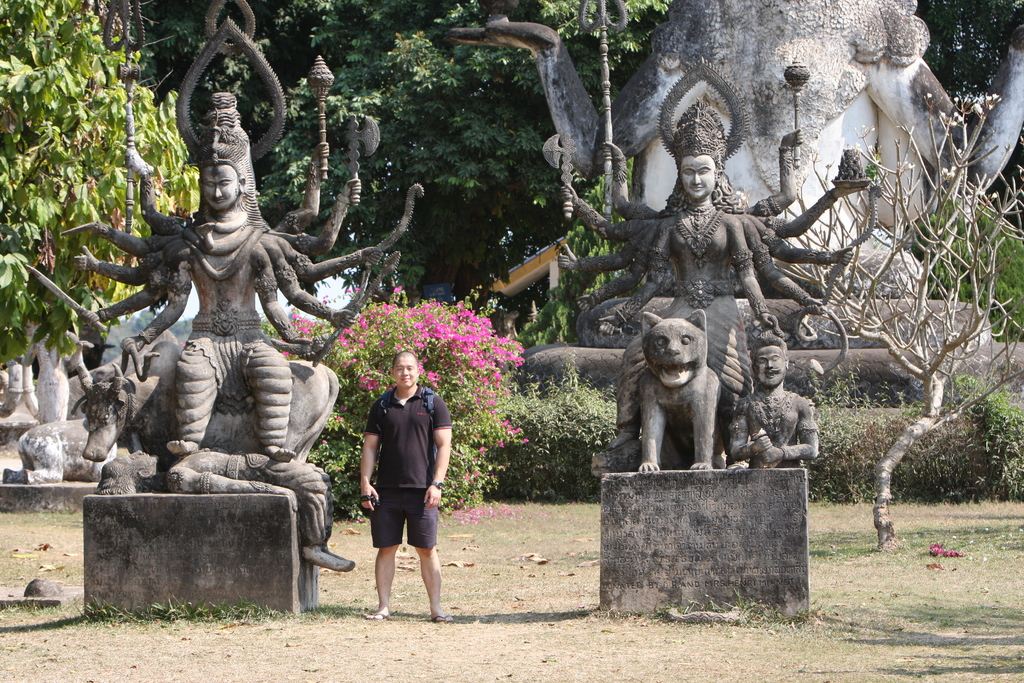Footwear: (367, 607, 383, 620), (431, 617, 450, 622)
